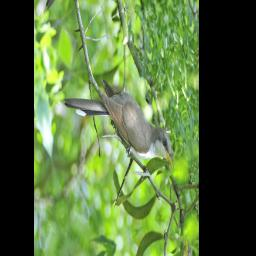Cuckoo: (63, 41, 175, 226)
